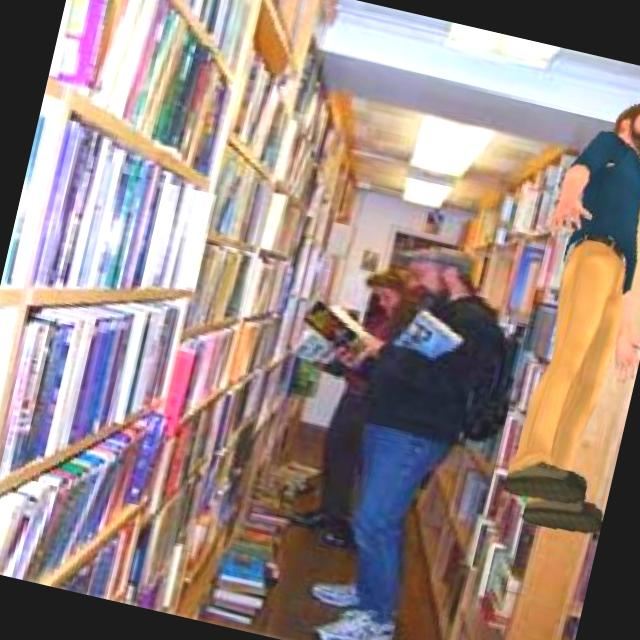Person: (479, 78, 640, 544)
